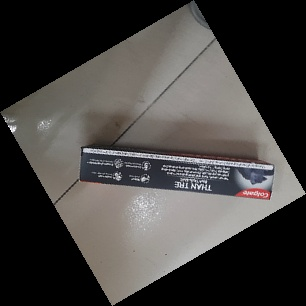Colgate Than: (79, 141, 276, 200)
